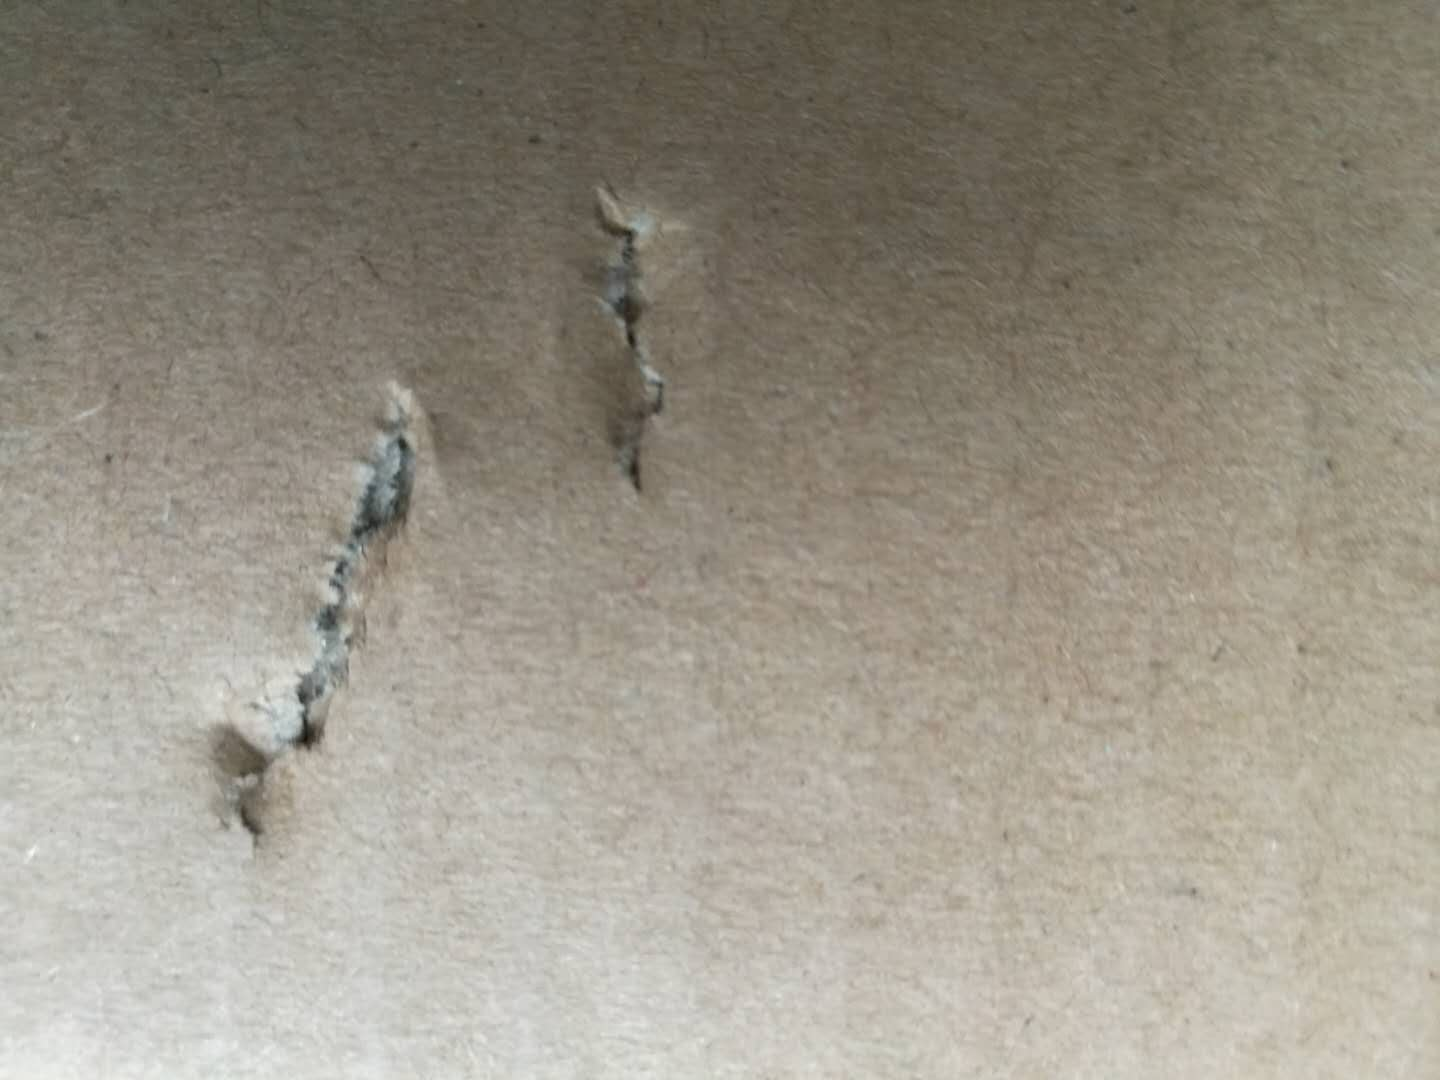defect: (166, 355, 480, 880), (535, 150, 737, 518)
